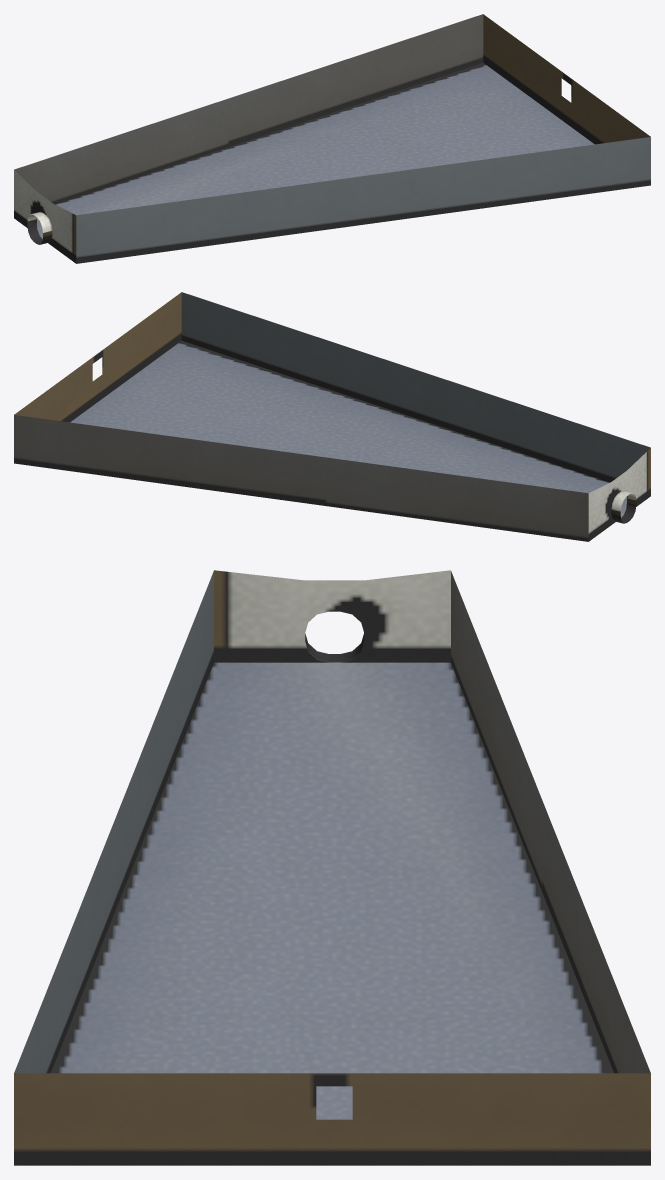
The model's file is Pulselevel 3.fbx.
3 renders of one model, top to bottom at view 1: azimuth 30°, elevation 25°; view 2: azimuth 150°, elevation 25°; view 3: azimuth 270°, elevation 25°, orthographic. The views are drawn at different scales.
Visible parts, largest first — view 1: room2; view 2: room2; view 3: room2.
Part boxes in pixels (<box>): room2: <box>14,14,650,263</box>; room2: <box>14,292,650,541</box>; room2: <box>14,570,650,1165</box>.
Bounding box in the file's own units: 8227 × 873 × 4500.
Materials: 1 (1 with a texture image).
